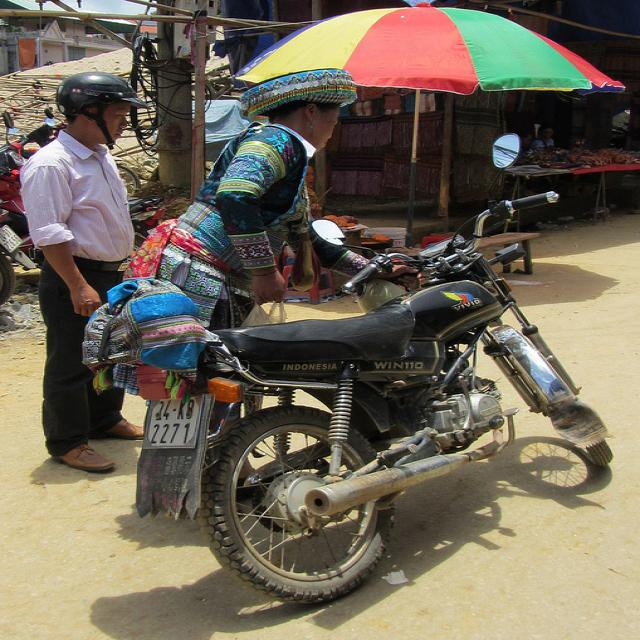motor: (128, 132, 620, 603)
